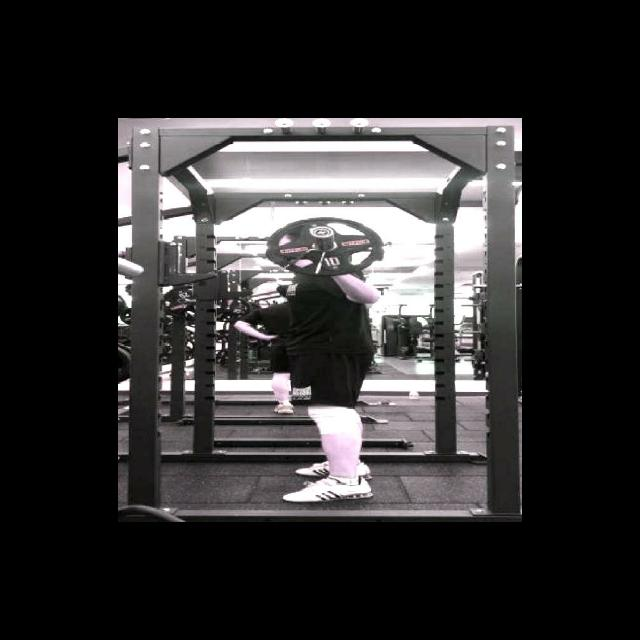barbell: (252, 211, 391, 282)
